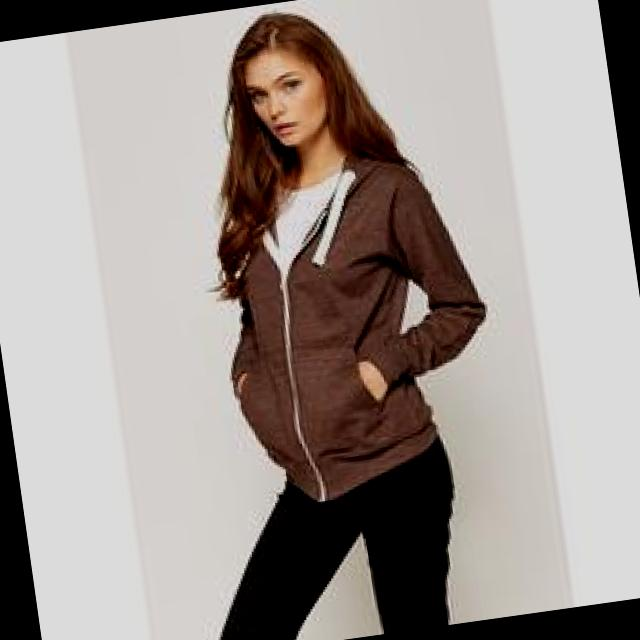sweater: (202, 136, 510, 514)
